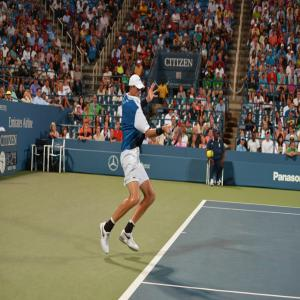TennisBall: (209, 152, 215, 160)
